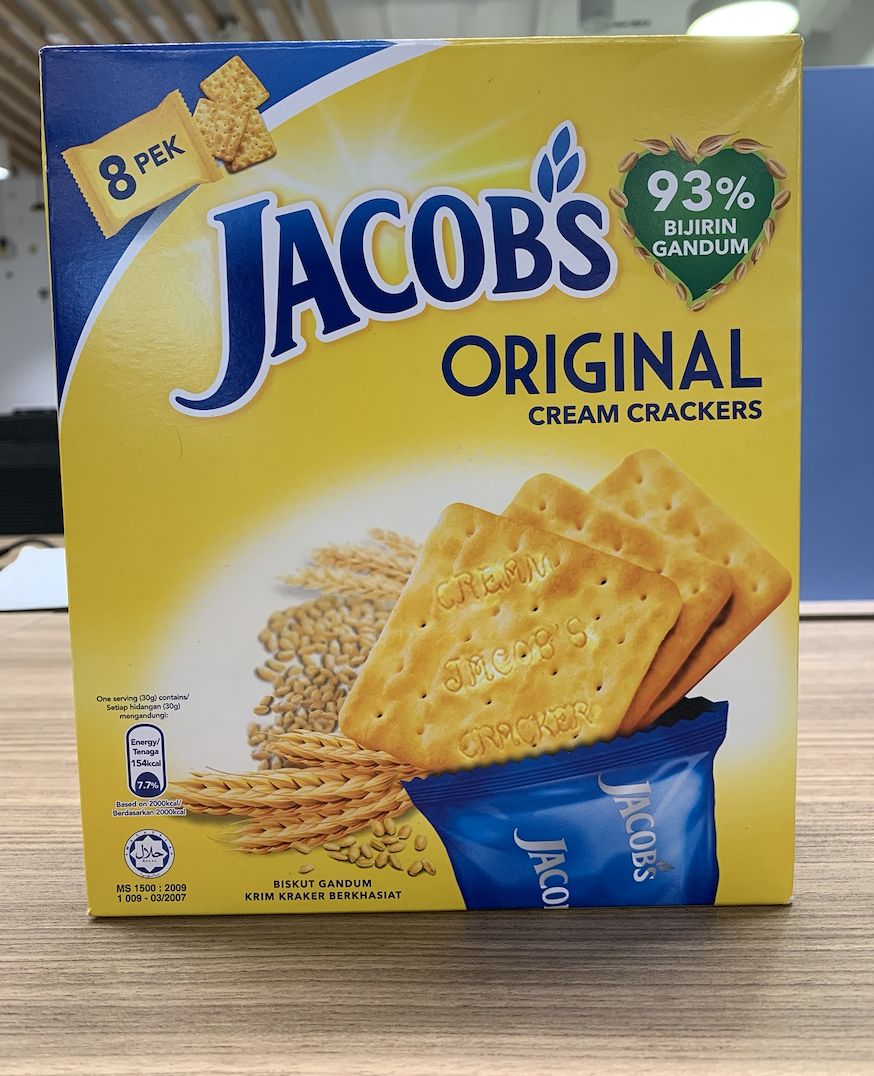crackers_150g: (71, 61, 786, 891)
